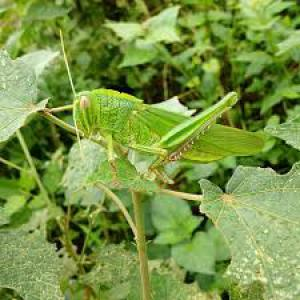locust: (58, 45, 300, 185)
